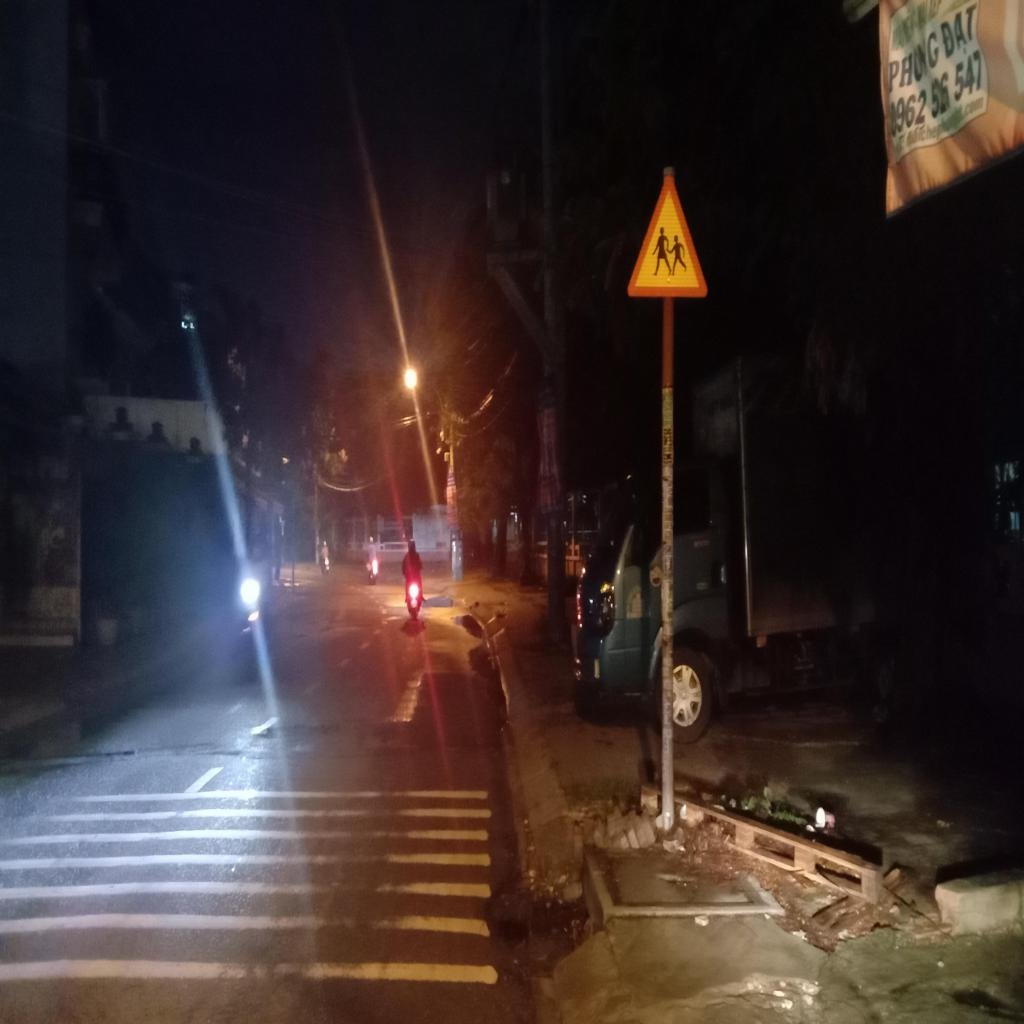chu_y_tre_em: (626, 176, 708, 296)
